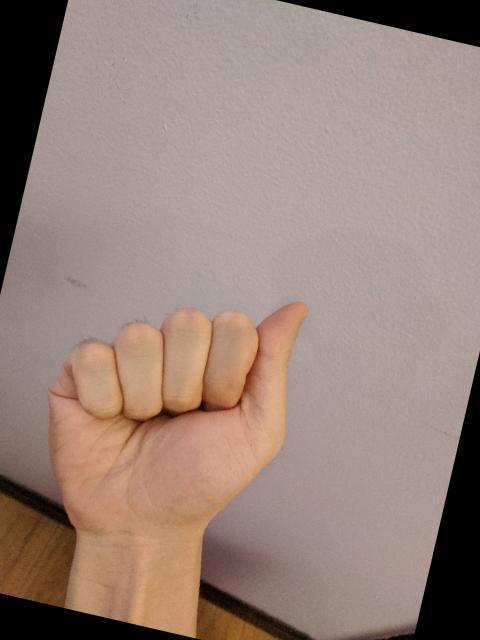A: (8, 242, 322, 594)
